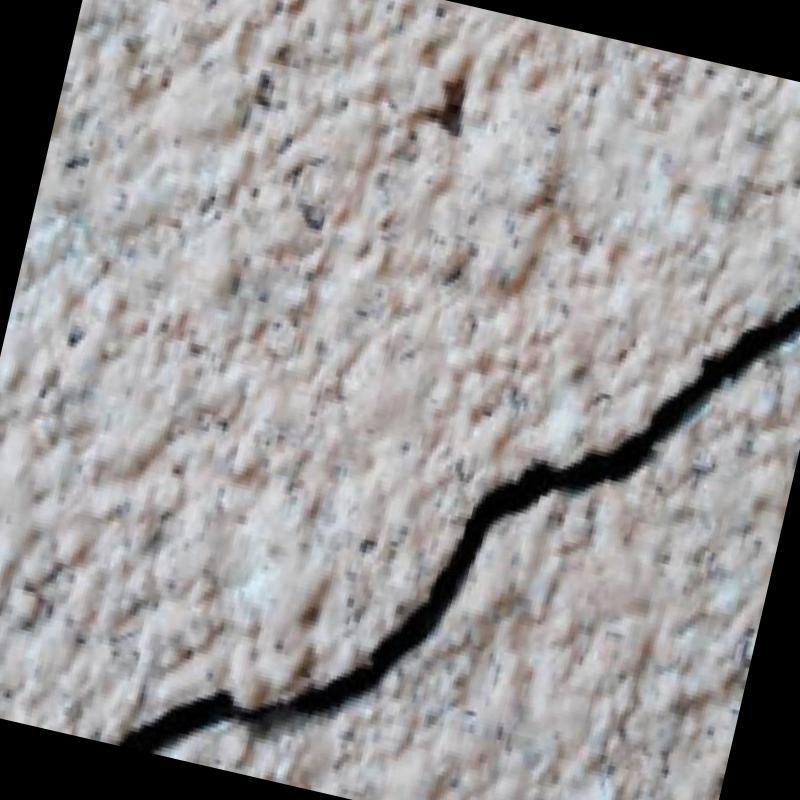pothole: (118, 302, 800, 753)
